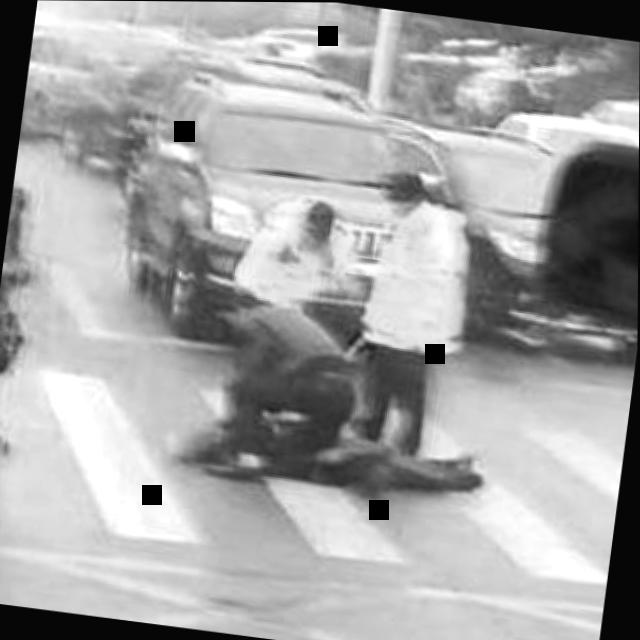Fall-Detected: (169, 379, 511, 516)
